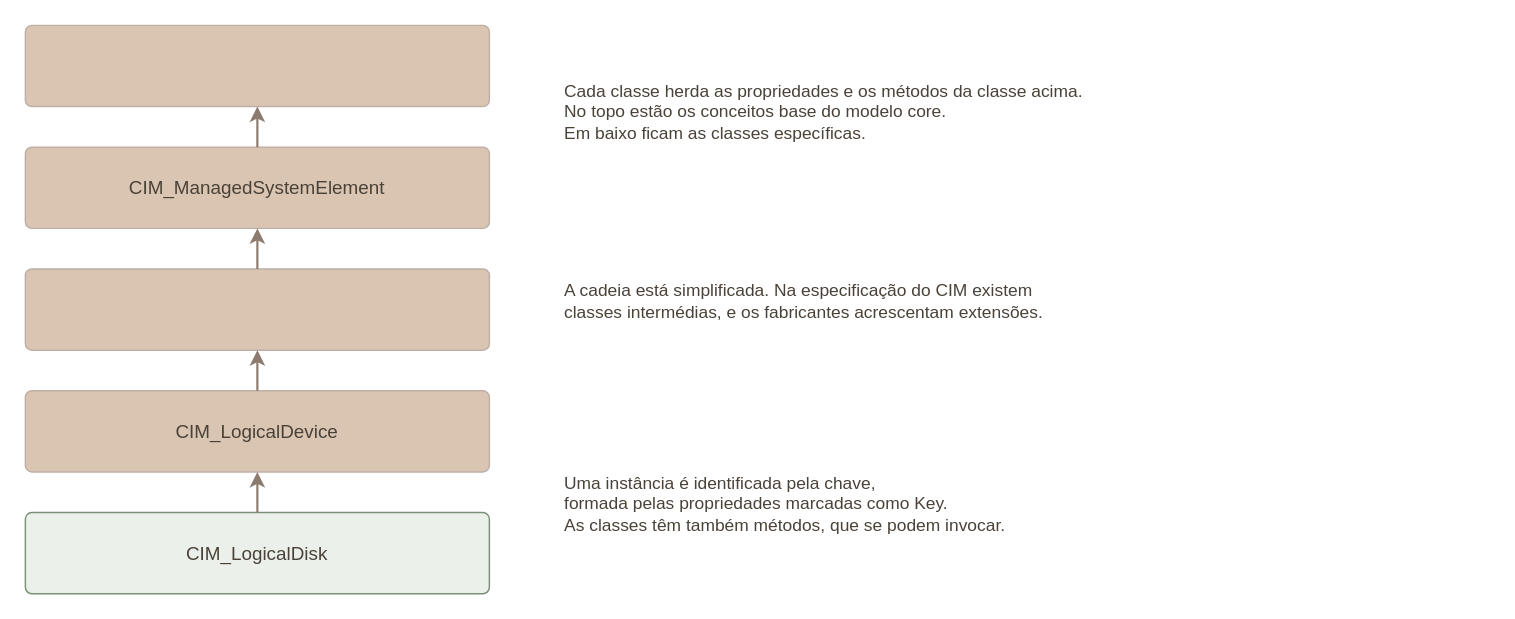
The diagram is 1515 pixels wide and 619 high, and some of its shapes have lost their labels. Each missing label, with the centre of its shape:
CIM_LogicalElement: (256,309)
CIM_ManagedElement: (256,65)
